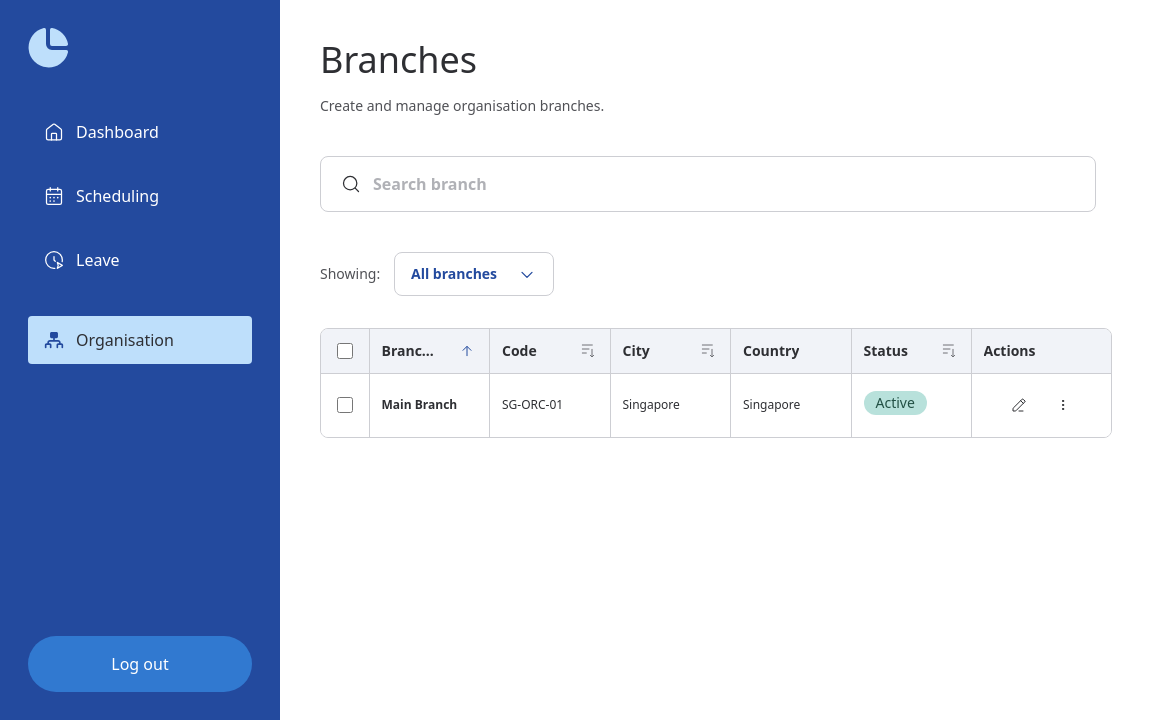
Test case: Branches › asks the server for the chosen sort and status
Expected: the text "Main Branch" is shown, [369, 373, 490, 437]
Click the button named "Sort by Branch name" at (467, 351), box [449, 333, 485, 369]
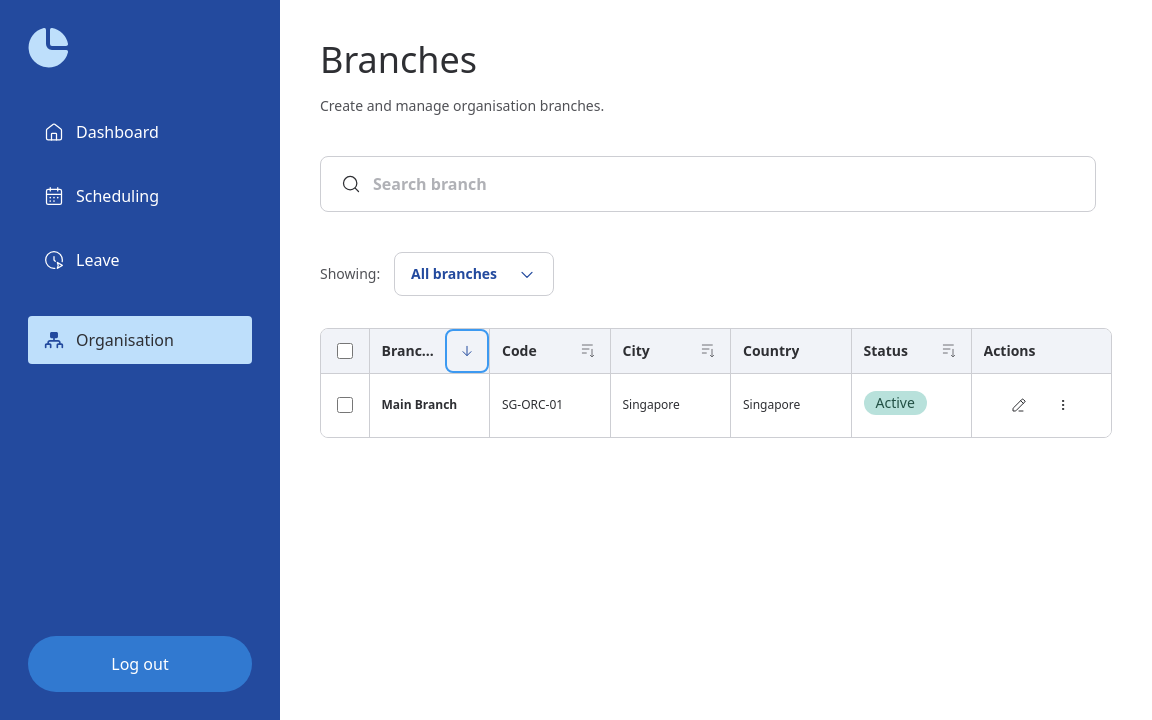
Now the column heading "Branch name" has attribute aria-sort="descending", box [369, 329, 490, 373]
Click the button named "Sort by Status" at (948, 351), box [930, 333, 966, 369]
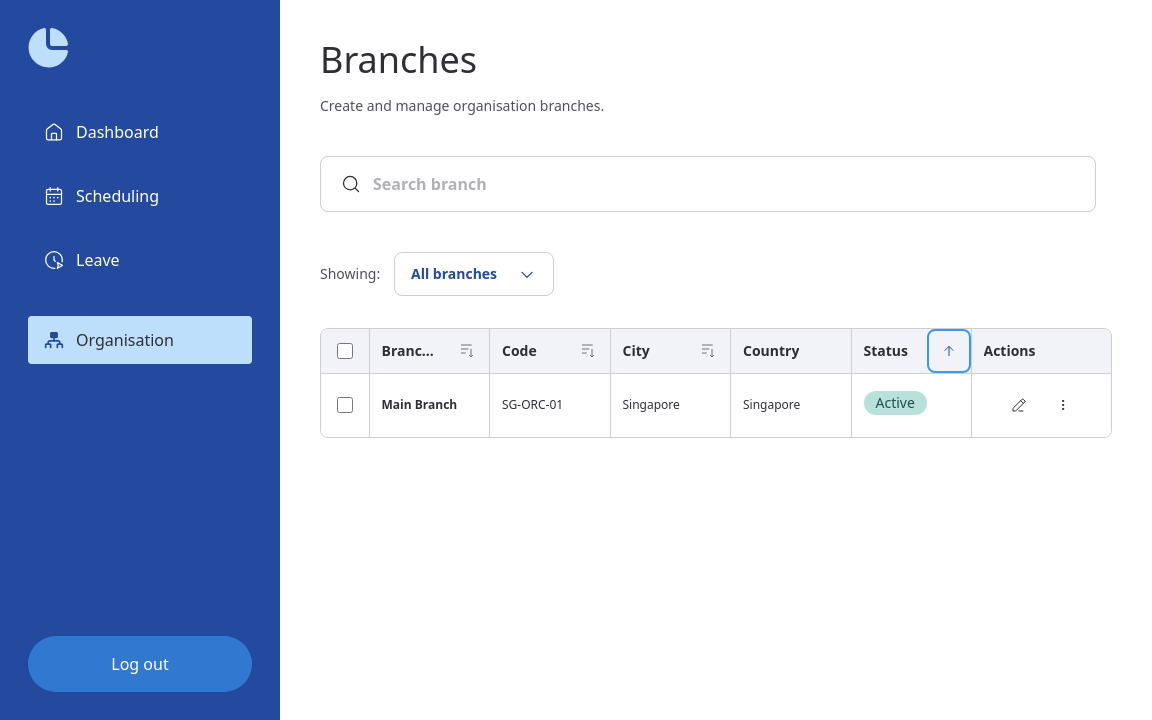
Click the button named "Showing:" at (474, 274), box [394, 252, 554, 296]
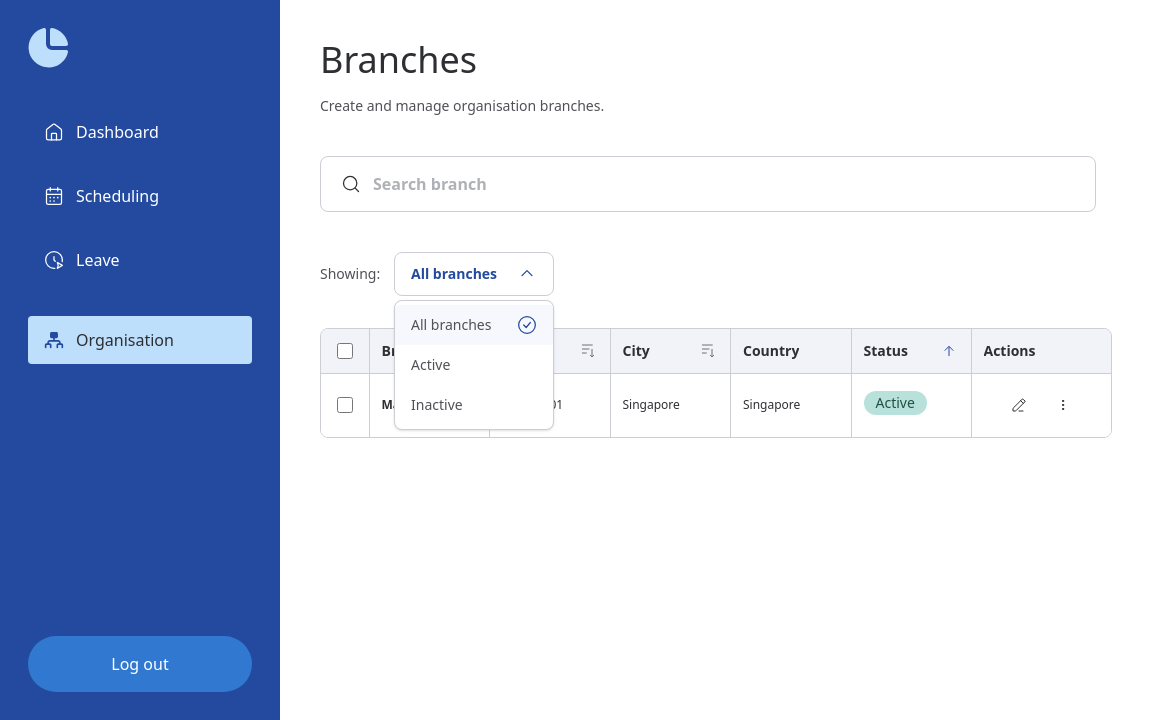
Click the option "Active" at (431, 364), box [411, 355, 450, 374]
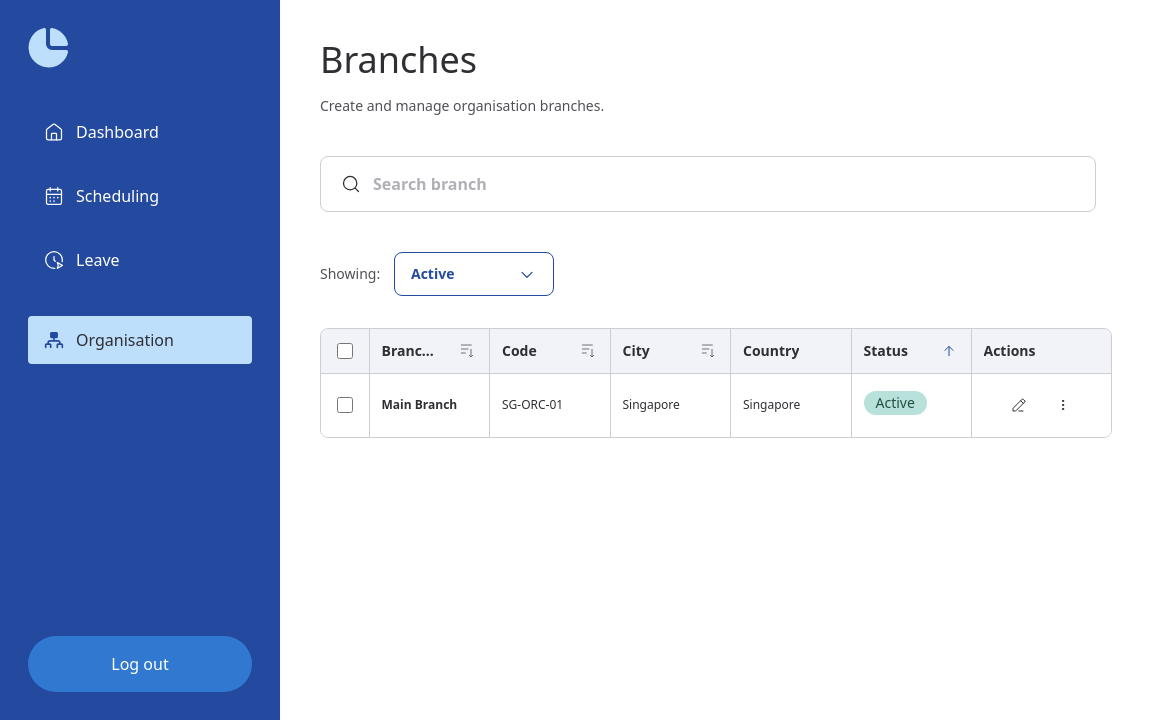
Now the button named "Showing:" reads "Active", box [394, 252, 554, 296]
